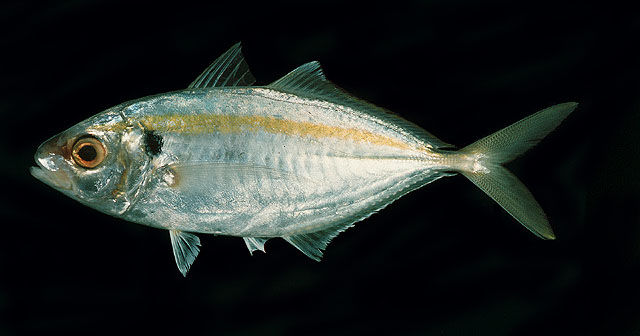fish: (28, 42, 581, 278)
